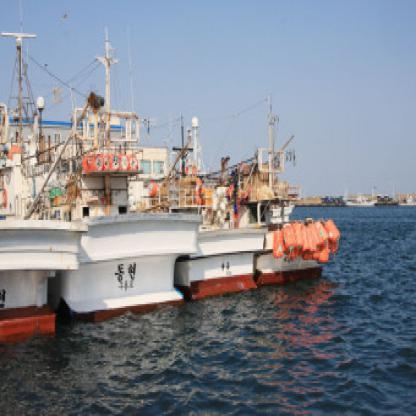fish-b: (65, 22, 210, 335), (0, 20, 88, 358), (162, 112, 265, 317)
